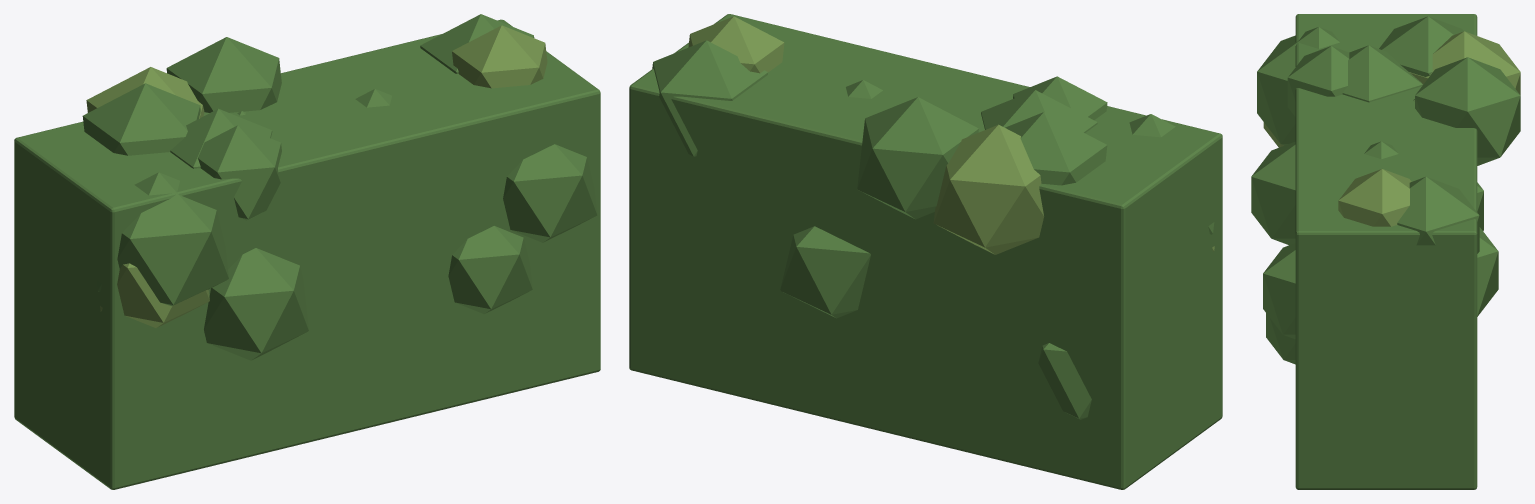
Rendered from HedgeSegment.fbx.
3 views of the same model, side by side, from view 1: azimuth 30°, elevation 25°; view 2: azimuth 150°, elevation 25°; view 3: azimuth 270°, elevation 25° (orthographic). The views are drawn at different scales.
Parts seen in each view (by area): view 1: HedgeSegment; view 2: HedgeSegment; view 3: HedgeSegment.
Boxes of the visible parts, box(x1,y1,x2,y2) form: HedgeSegment: box(14, 14, 600, 489); HedgeSegment: box(629, 14, 1222, 489); HedgeSegment: box(1251, 14, 1520, 489).
Bounding box in the file's own units: 2.02 × 1.31 × 1.04.
